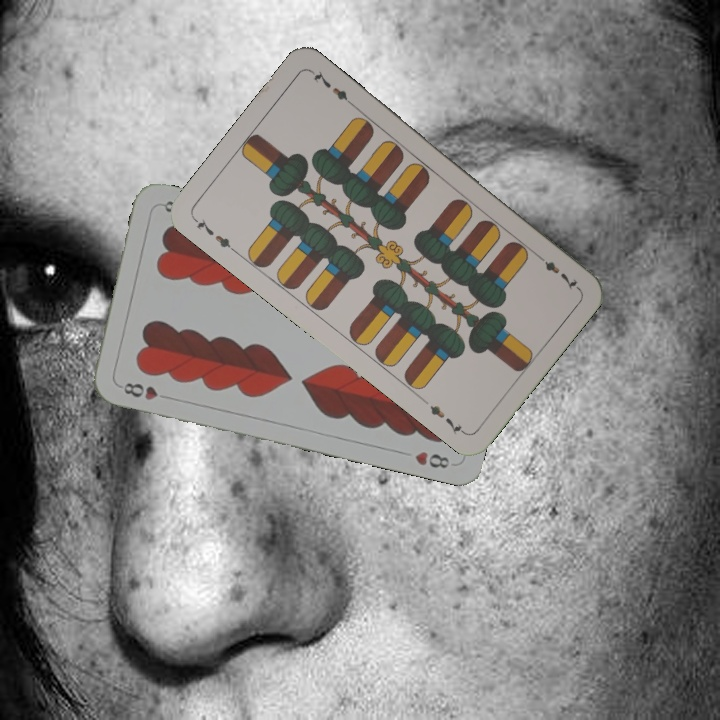E7: (532, 249, 581, 293), (190, 214, 240, 256)
H8: (119, 378, 160, 403)
